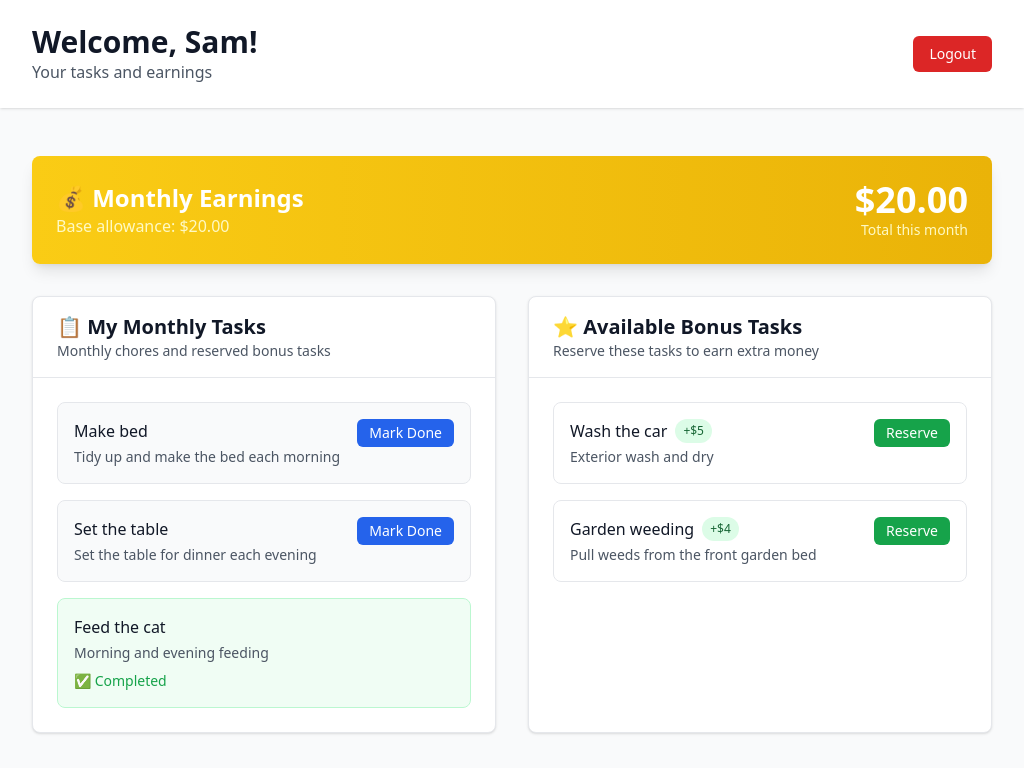
Test: Child Flows Integration Tests › Complete Chore Flow › should complete a chore and update the UI
Expected: the heading "Make bed" is shown, x1=74 y1=419 x2=148 y2=443
Click the button "Mark Done" in the row of "Make bed" at x=406, y=433, box x1=357 y1=419 x2=454 y2=447
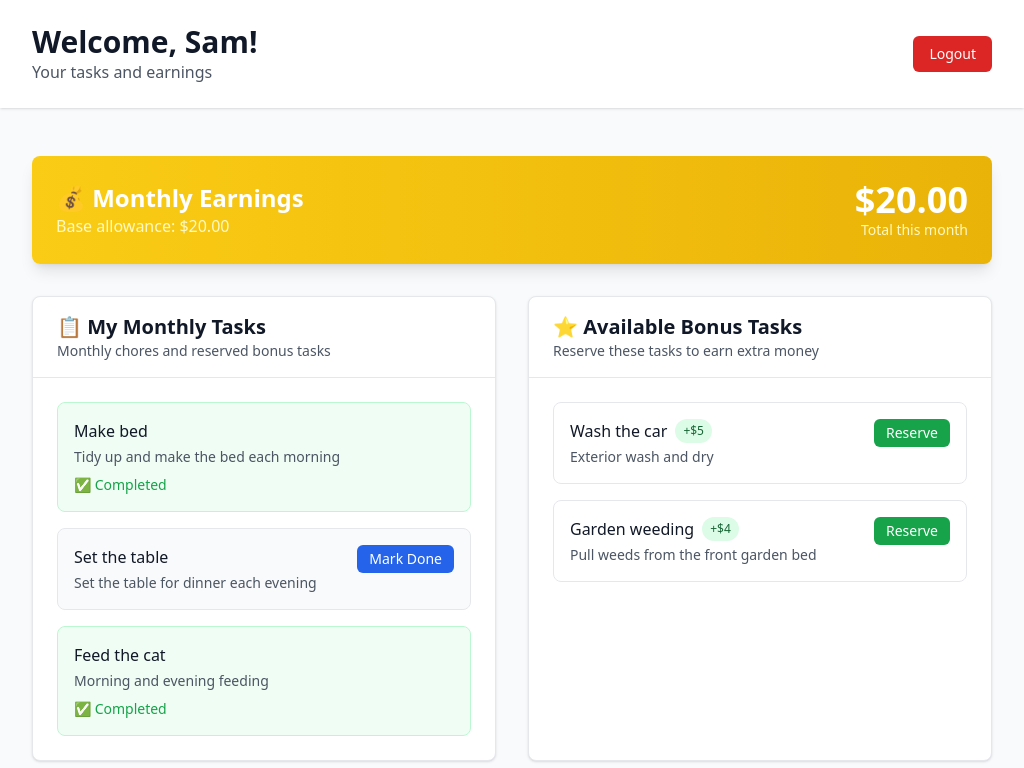
Expected: the text "Make bed" shows "✅ Completed", x1=74 y1=475 x2=167 y2=494
